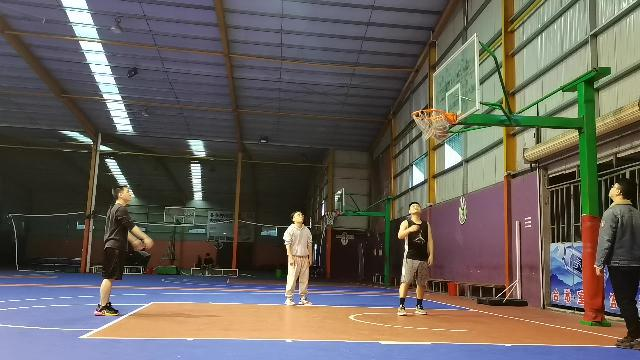basket: (410, 109, 446, 141), (324, 209, 336, 224)
goal: (432, 124, 448, 140)
